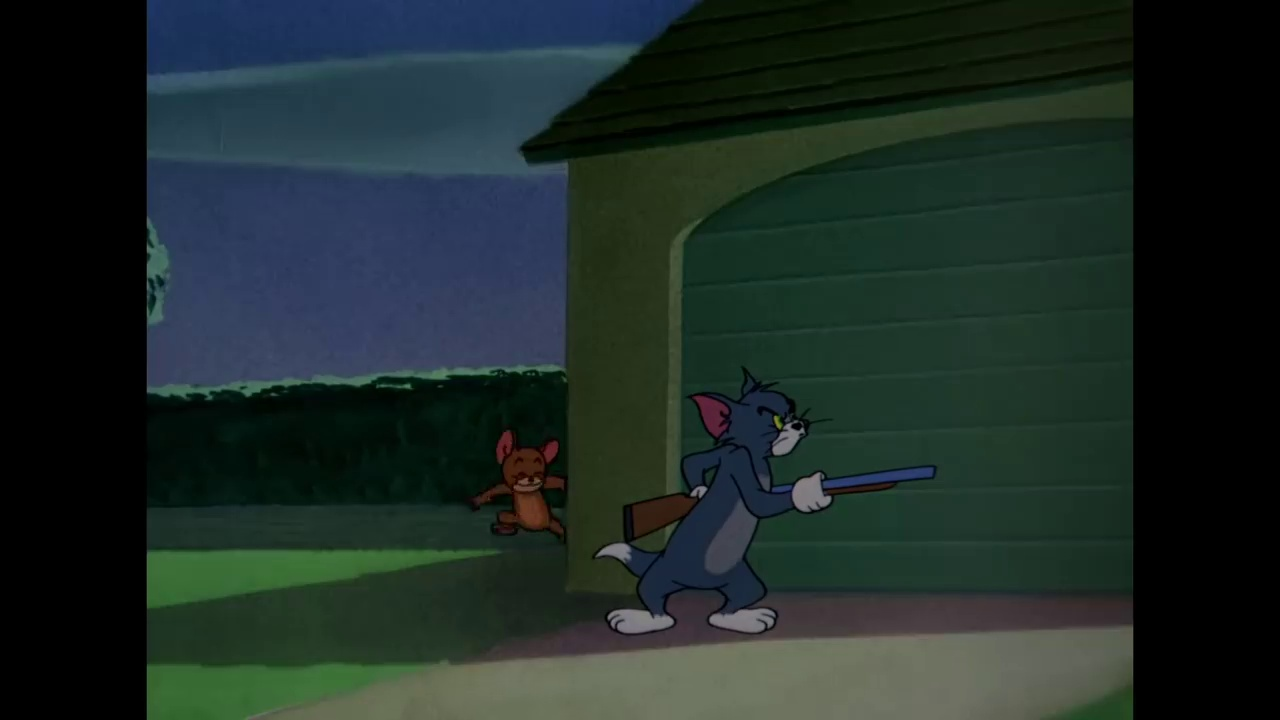tom: (679, 363, 819, 472)
